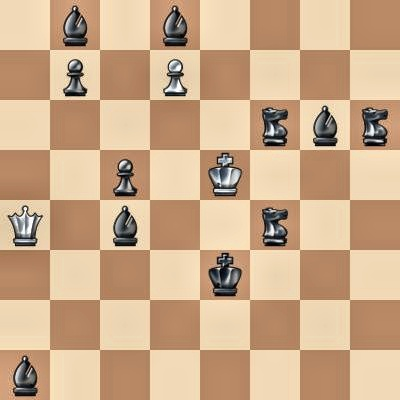black-bishop: (50, 0, 100, 50), (150, 0, 200, 50), (300, 100, 350, 150), (100, 200, 150, 250), (0, 350, 50, 400)
black-king: (200, 250, 250, 300)
black-knight: (250, 100, 300, 150), (350, 100, 400, 150), (250, 200, 300, 250)
black-pawn: (50, 50, 100, 100), (100, 150, 150, 200)
white-king: (200, 150, 250, 200)
white-pawn: (150, 50, 200, 100)
white-queen: (0, 200, 50, 250)
